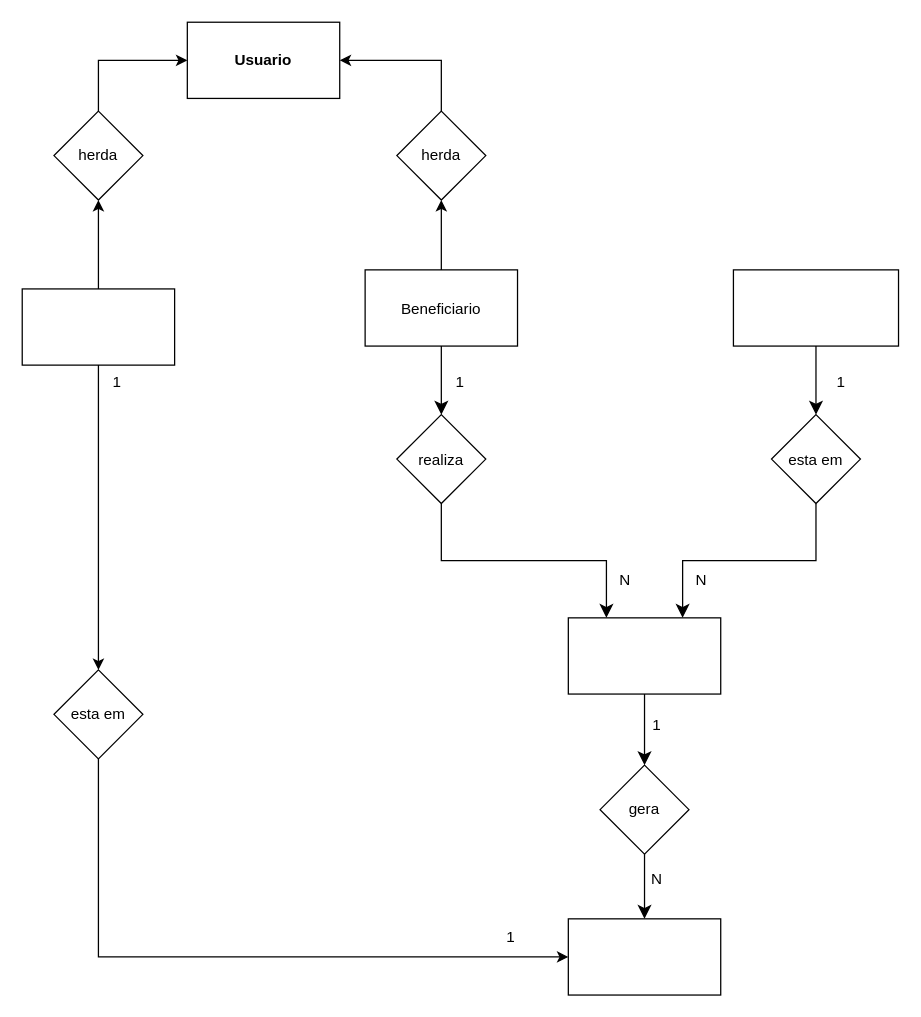
This 921x1017 diagram has some shape labels left out. Here are the shapes that lost their labels. From the top down, the centre of each, then its label:
pixel 98 326: Doador
pixel 815 307: ItemDoacao
pixel 644 655: Solicitacao
pixel 644 956: DoacaiEfetivada
